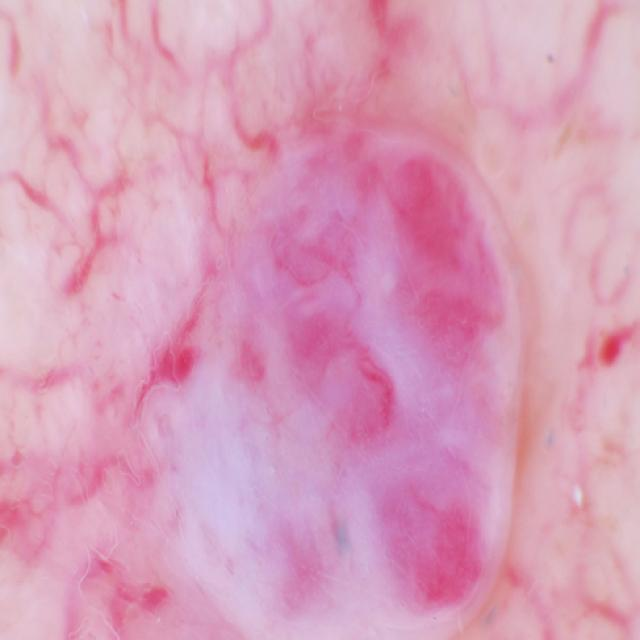Vascular Lesions: (87, 99, 595, 640)
